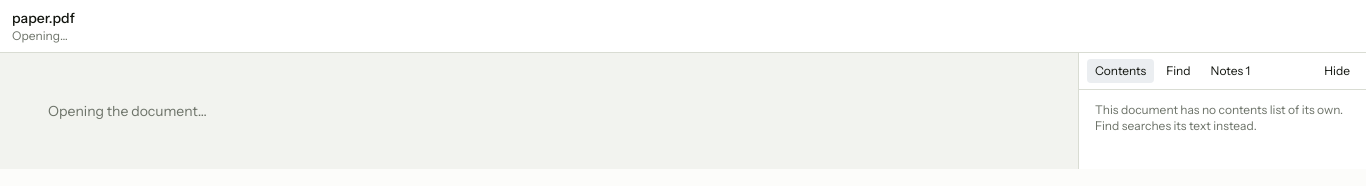
Test: PdfReader — what the notebook says about this document › shows the sentence around a bare reference, since there is no quotation
Click the button with aria-label "What your notes say about this document".
click(1230, 71)  # box [1203,59,1258,83]
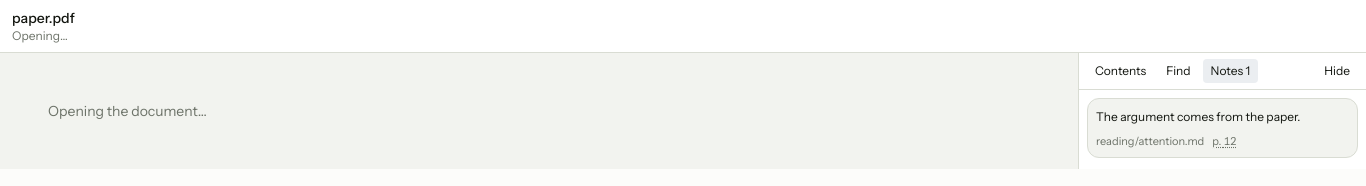
Check: the text "The argument comes from the paper." is shown, box [1096,109,1300,124]
